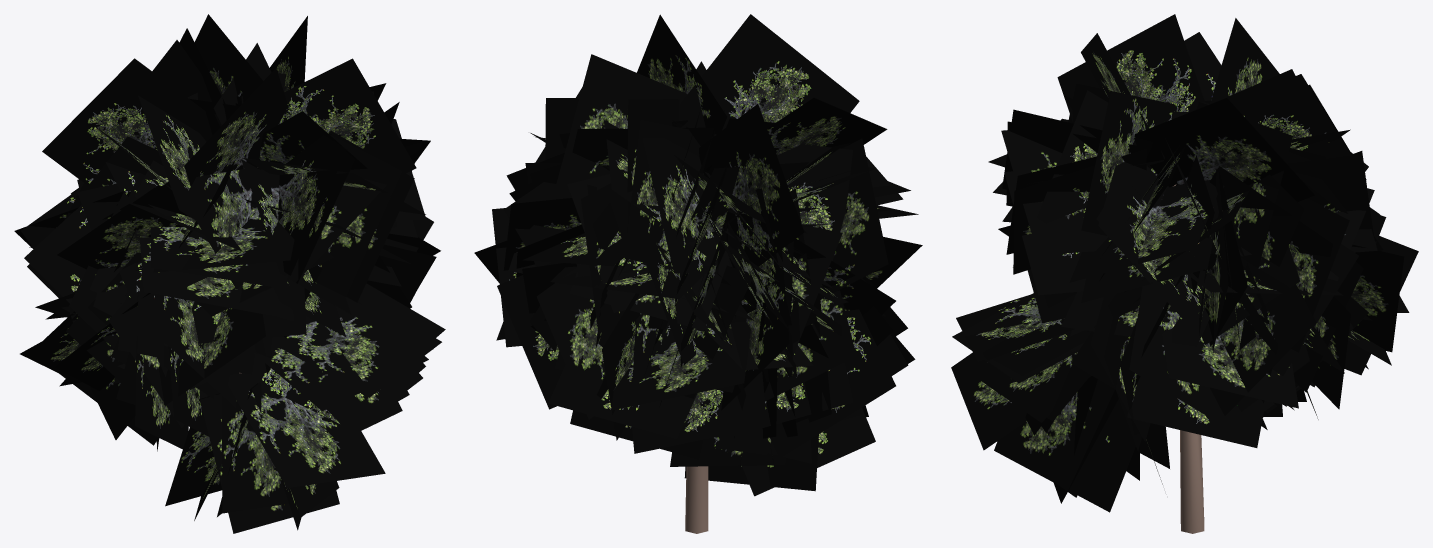
File: tree.glb
The picture shows the model from 3 angles, left to right: view 1: azimuth 30°, elevation 25°; view 2: azimuth 150°, elevation 25°; view 3: azimuth 270°, elevation 25°; orthographic projection. The views are drawn at different scales.
Bounding box in the file's own units: 6.37 × 7.6 × 6.55.
2 materials, 1 textured.
